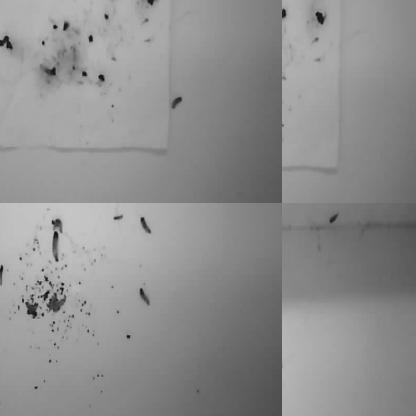PtecticusTenebrifer: (51, 231, 60, 263), (138, 286, 152, 306), (140, 216, 152, 237), (170, 96, 184, 113), (51, 219, 63, 233), (0, 282, 7, 306), (282, 369, 294, 380), (330, 213, 340, 224), (73, 0, 90, 6), (282, 356, 290, 368), (111, 214, 124, 221), (15, 203, 25, 212), (282, 376, 286, 398), (156, 0, 174, 4), (282, 70, 288, 82), (0, 263, 3, 287), (282, 330, 286, 347), (282, 69, 285, 88), (282, 379, 293, 384), (0, 0, 6, 8), (270, 203, 282, 207), (282, 0, 291, 5), (0, 203, 8, 208), (282, 406, 287, 414), (282, 0, 286, 6)
